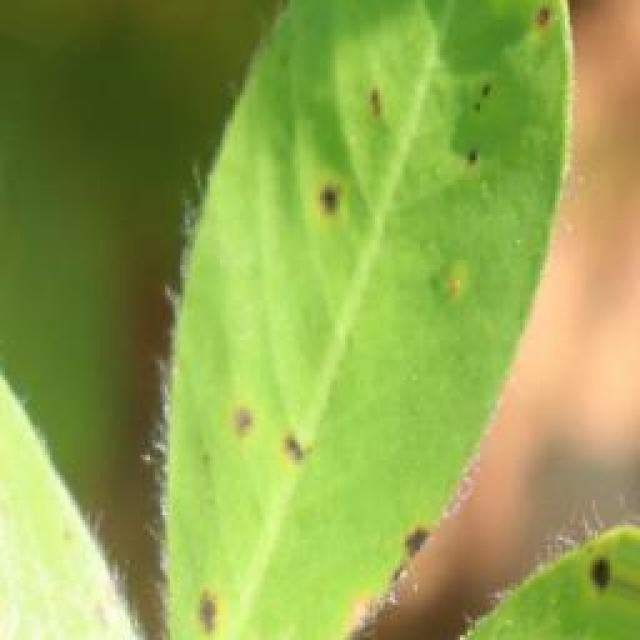Sigatoka: (226, 394, 336, 478), (462, 70, 524, 194), (374, 516, 433, 612), (299, 164, 363, 230), (425, 251, 481, 324), (177, 584, 238, 640), (587, 539, 640, 602), (521, 0, 568, 47), (349, 85, 390, 138)
